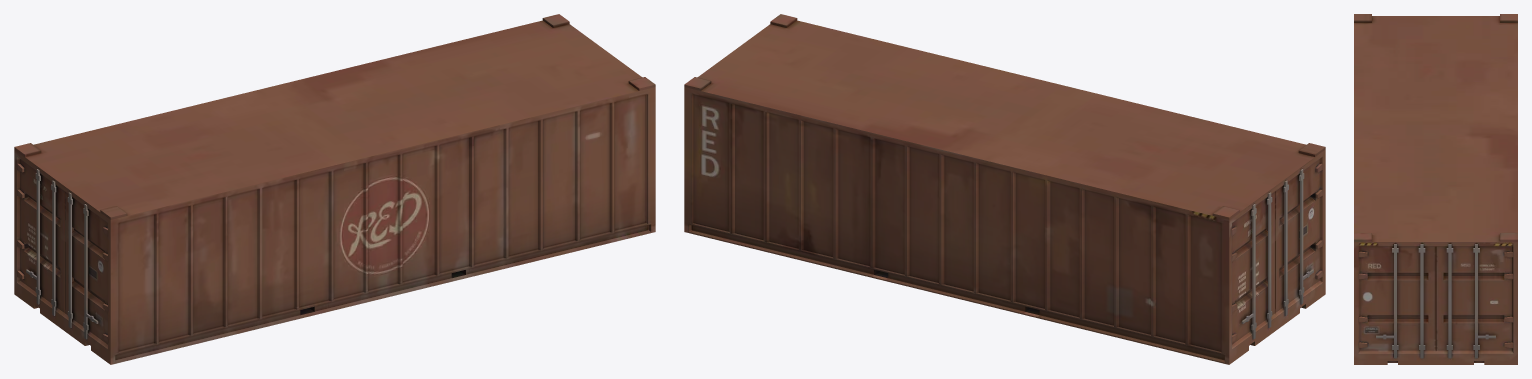
The picture shows the model from 3 angles, left to right: view 1: azimuth 30°, elevation 25°; view 2: azimuth 150°, elevation 25°; view 3: azimuth 270°, elevation 25°; orthographic projection. The views are drawn at different scales.
Visible parts, largest first — view 1: body0_model0_lod0_mesh0; view 2: body0_model0_lod0_mesh0; view 3: body0_model0_lod0_mesh0.
Boxes of the visible parts, bbox=[...] form: body0_model0_lod0_mesh0: bbox=[14, 14, 655, 364]; body0_model0_lod0_mesh0: bbox=[684, 14, 1325, 364]; body0_model0_lod0_mesh0: bbox=[1354, 14, 1517, 364].
Size of the model in its own units: 419 by 108 by 128.
Materials: 1 (1 with a texture image).
